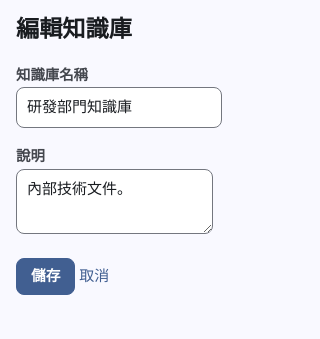
Test: EditKnowledgeBase (E05-S004) › shows a distinct error alert when saving fails, does not navigate away, and keeps the entered values
Replace the text in the field labelled "知識庫名稱" with "研發部門知識庫（新）": [119, 108] box [16,88,222,128]
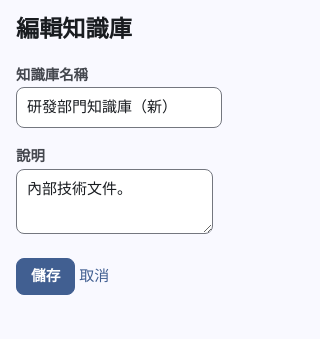
Click the button "儲存": [46, 276] box [16,258,76,294]
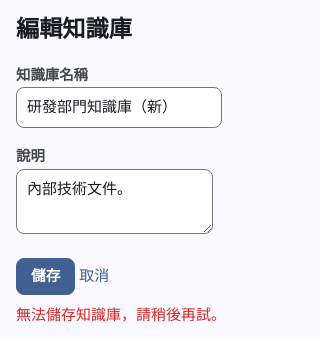
Result: the message shows "無法儲存知識庫" at [16,306,226,322]
